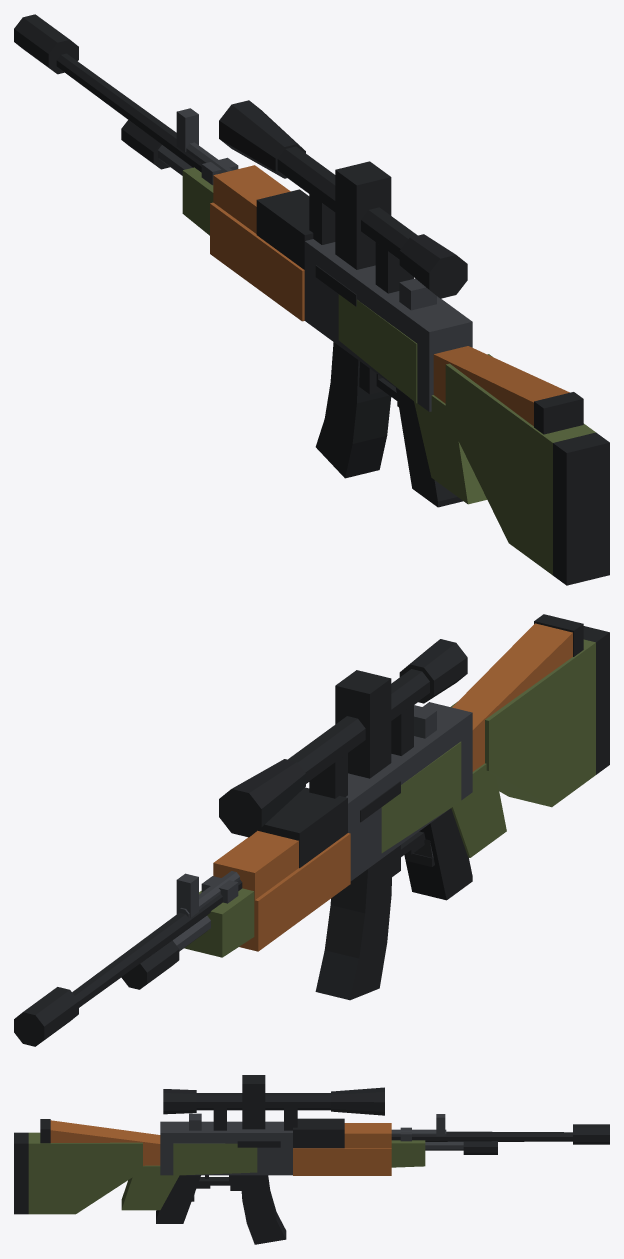
File: waffen.glb
The picture shows the model from 3 angles, top to bottom: view 1: azimuth 30°, elevation 25°; view 2: azimuth 150°, elevation 25°; view 3: azimuth 270°, elevation 25°; orthographic projection. The views are drawn at different scales.
Parts seen in each view (by area): view 1: waffe_scharf_schwarz.001, waffe_scharf_oliv.001, waffe_gewehr_schwarz.001, waffe_gewehr_holz.001, waffe_gewehr_metall.001; view 2: waffe_scharf_schwarz.001, waffe_scharf_oliv.001, waffe_gewehr_schwarz.001, waffe_gewehr_holz.001, waffe_gewehr_metall.001; view 3: waffe_scharf_oliv.001, waffe_scharf_schwarz.001, waffe_gewehr_schwarz.001, waffe_gewehr_holz.001, waffe_gewehr_metall.001.
Boxes of the visible parts, bbox=[...] form: waffe_scharf_schwarz.001: bbox=[14, 14, 609, 585]; waffe_scharf_oliv.001: bbox=[182, 167, 595, 575]; waffe_gewehr_schwarz.001: bbox=[121, 120, 583, 507]; waffe_gewehr_holz.001: bbox=[210, 165, 569, 426]; waffe_gewehr_metall.001: bbox=[158, 108, 472, 411]; waffe_scharf_schwarz.001: bbox=[14, 626, 609, 1046]; waffe_scharf_oliv.001: bbox=[184, 639, 595, 957]; waffe_gewehr_schwarz.001: bbox=[121, 614, 583, 1000]; waffe_gewehr_holz.001: bbox=[213, 623, 572, 951]; waffe_gewehr_metall.001: bbox=[173, 702, 472, 951]; waffe_scharf_oliv.001: bbox=[28, 1132, 425, 1214]; waffe_scharf_schwarz.001: bbox=[14, 1075, 609, 1214]; waffe_gewehr_schwarz.001: bbox=[40, 1118, 497, 1244]; waffe_gewehr_holz.001: bbox=[50, 1120, 391, 1175]; waffe_gewehr_metall.001: bbox=[160, 1113, 463, 1175].
Bounding box in the file's own units: 0.056 × 0.3331 × 1.12.
